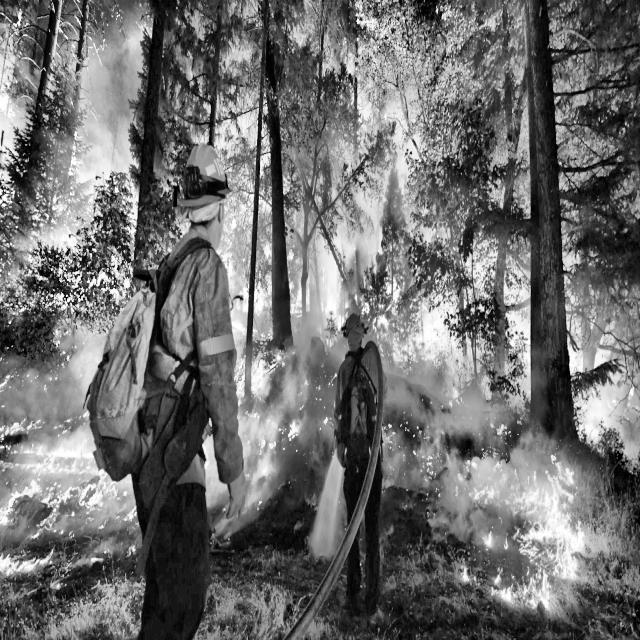fire: (315, 180, 512, 443), (0, 350, 133, 617), (220, 184, 303, 538), (0, 37, 99, 296), (471, 477, 592, 615), (571, 283, 637, 479)
